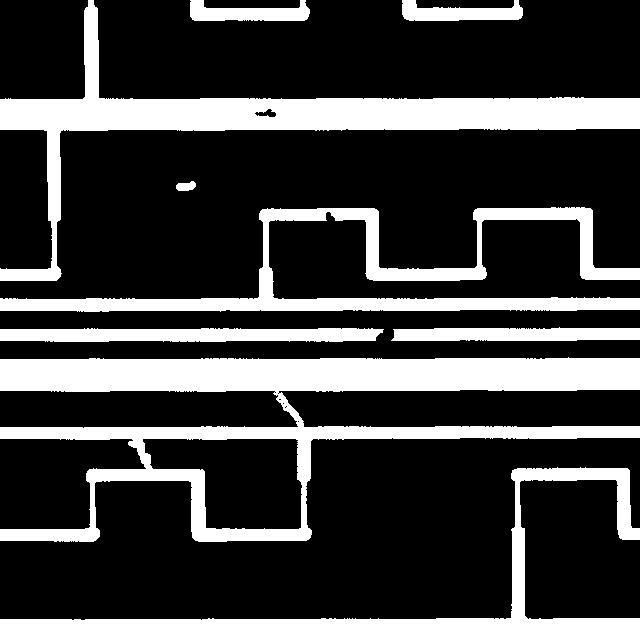copper: (245, 99, 285, 126)
open: (261, 376, 313, 439), (118, 425, 163, 482)
pin-hole: (166, 171, 205, 200)
short: (366, 317, 403, 354)
spur: (316, 202, 344, 232)
